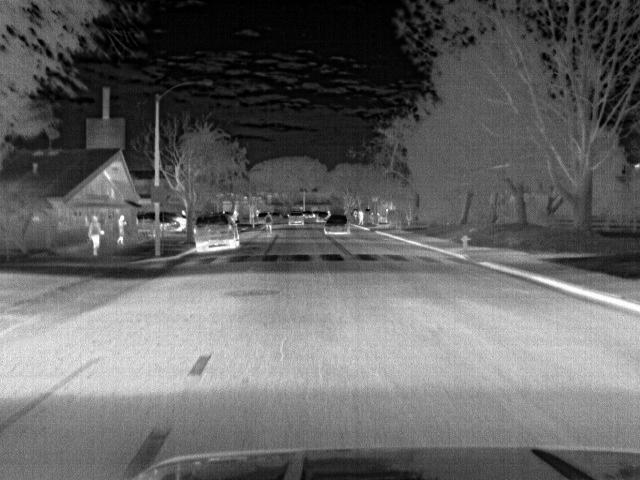car: (194, 211, 240, 254), (325, 213, 353, 233), (285, 209, 308, 225), (315, 210, 331, 224)
person: (88, 212, 106, 257), (115, 214, 129, 248), (261, 211, 274, 235)
